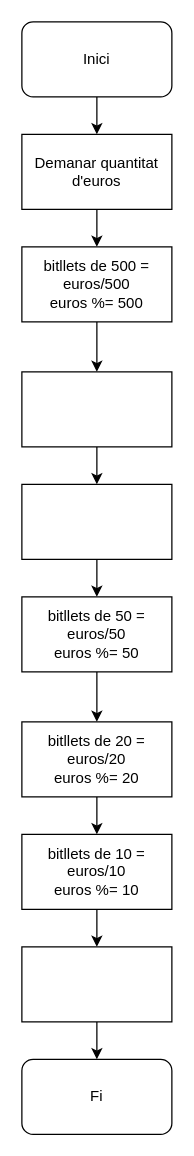
Some shapes in this 194 by 1156 pixel diagram are drawn without their labels. Each missing label, with the centre of its shape:
"bitllets de 100 = euros/100 euros %= 100" belongs at (x=96, y=521).
"bitllets de 200 = euros/200 euros %= 200" belongs at (x=96, y=409).
"bitllets de 5 = euros/5 euros %= 5" belongs at (x=96, y=984).
